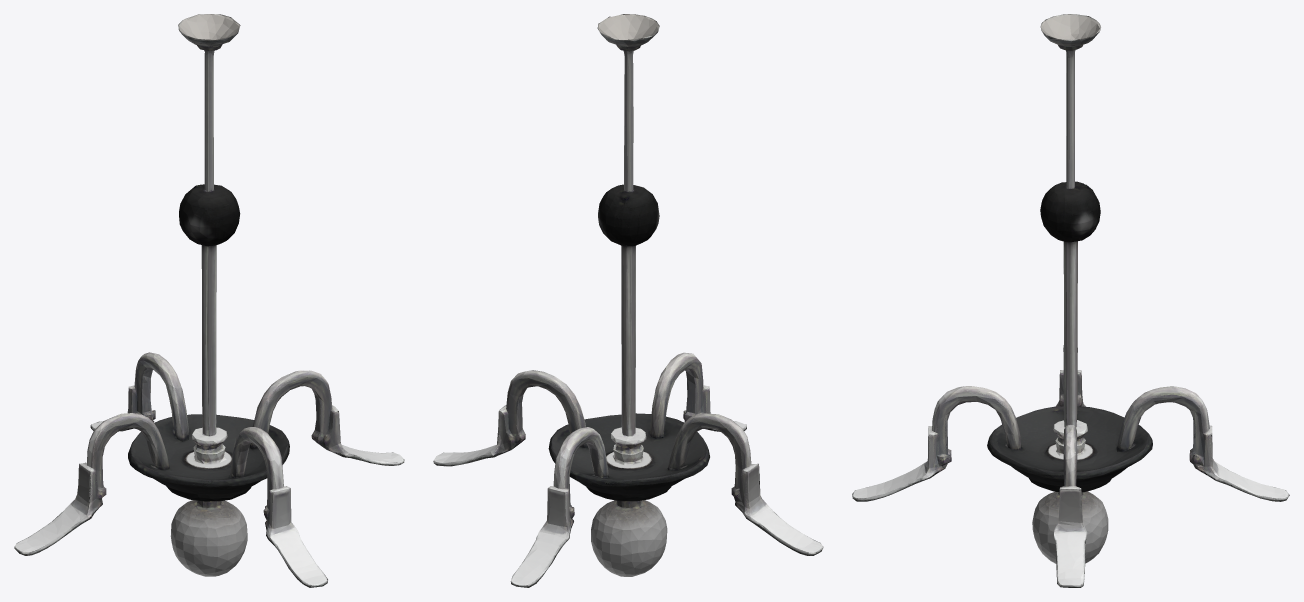
The picture shows the model from 3 angles, left to right: view 1: azimuth 30°, elevation 25°; view 2: azimuth 150°, elevation 25°; view 3: azimuth 270°, elevation 25°; orthographic projection.
Parts seen in each view (by area): view 1: world; view 2: world; view 3: world.
Part boxes in pixels (x1=…): world: x1=14, y1=14, x2=404, y2=587; world: x1=433, y1=14, x2=823, y2=587; world: x1=852, y1=14, x2=1289, y2=587.
Size of the model in its own units: 0.731 by 1 by 0.7371.
1 material, 1 textured.
